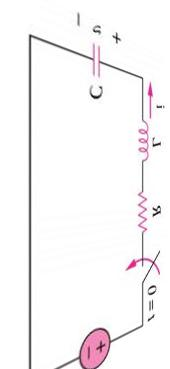inductor: (129, 118, 154, 173)
